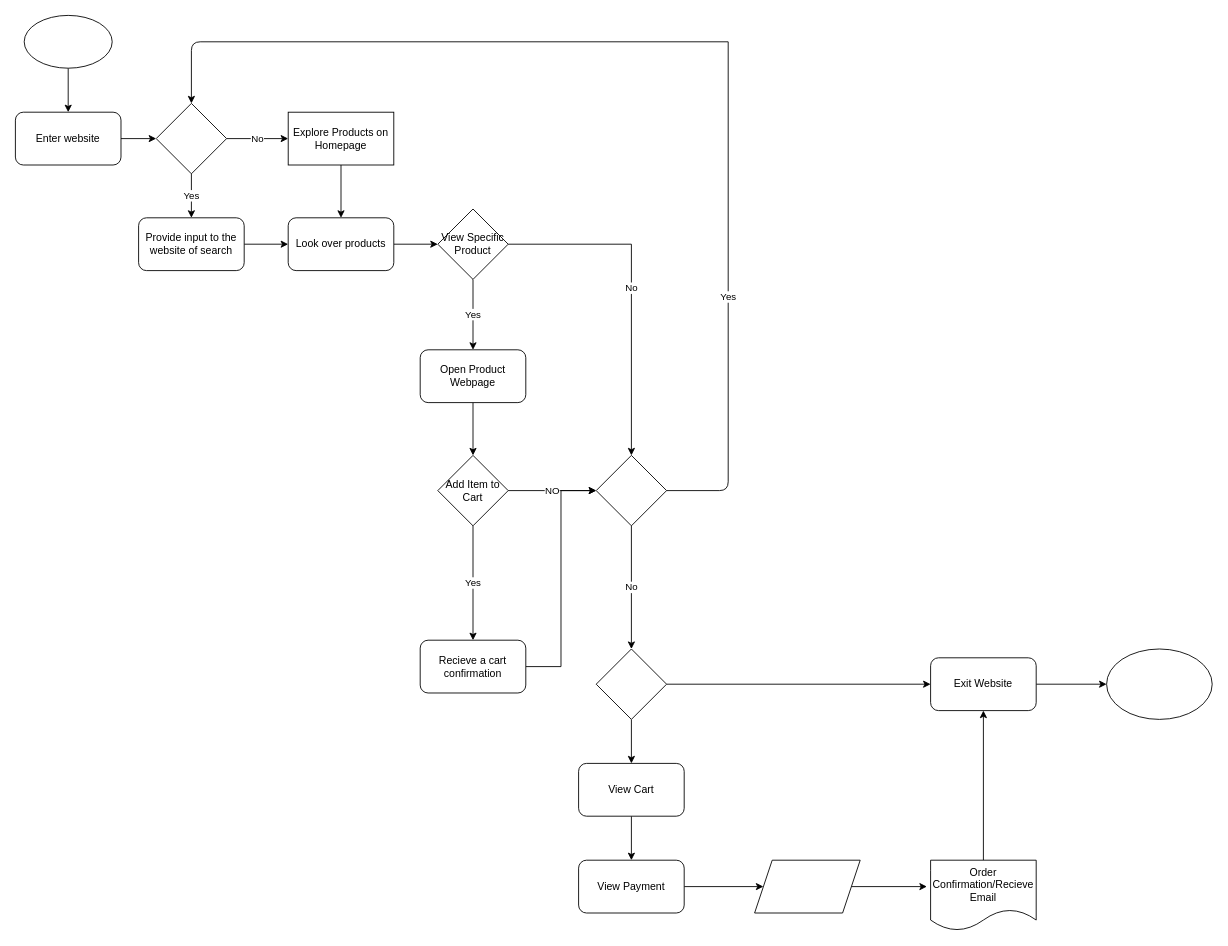
The diagram is 1228 pixels wide and 946 high, and some of its shapes have lost their labels. The box of each missing label's shape, as (x1, y1, x2, y2) in pixels:
Checkout: (595, 648, 667, 719)
Continue Shopping: (595, 455, 667, 526)
End: (1106, 648, 1212, 719)
Give input of Payment Info: (754, 859, 860, 913)
Search for product: (155, 103, 227, 174)
Start: (23, 15, 112, 68)
